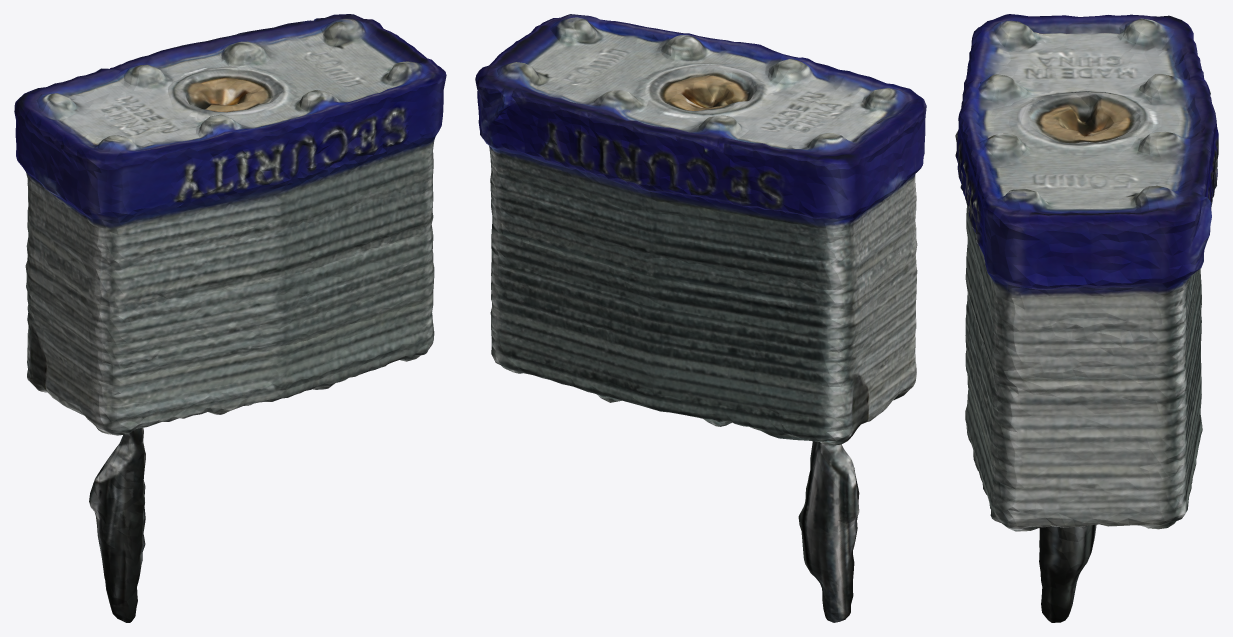
File: padlock.glb
3 views of the same model, side by side, from view 1: azimuth 30°, elevation 25°; view 2: azimuth 150°, elevation 25°; view 3: azimuth 270°, elevation 25° (orthographic). The views are drawn at different scales.
Visible parts, largest first — view 1: textured.obj; view 2: textured.obj; view 3: textured.obj.
Part boxes in pixels (box(x1,y1,x2,y2)): textured.obj: box(14, 14, 446, 622); textured.obj: box(475, 14, 926, 622); textured.obj: box(955, 14, 1218, 622).
Size of the model in its own units: 0.0539 by 0.0703 by 0.0288.
1 material, 1 textured.
